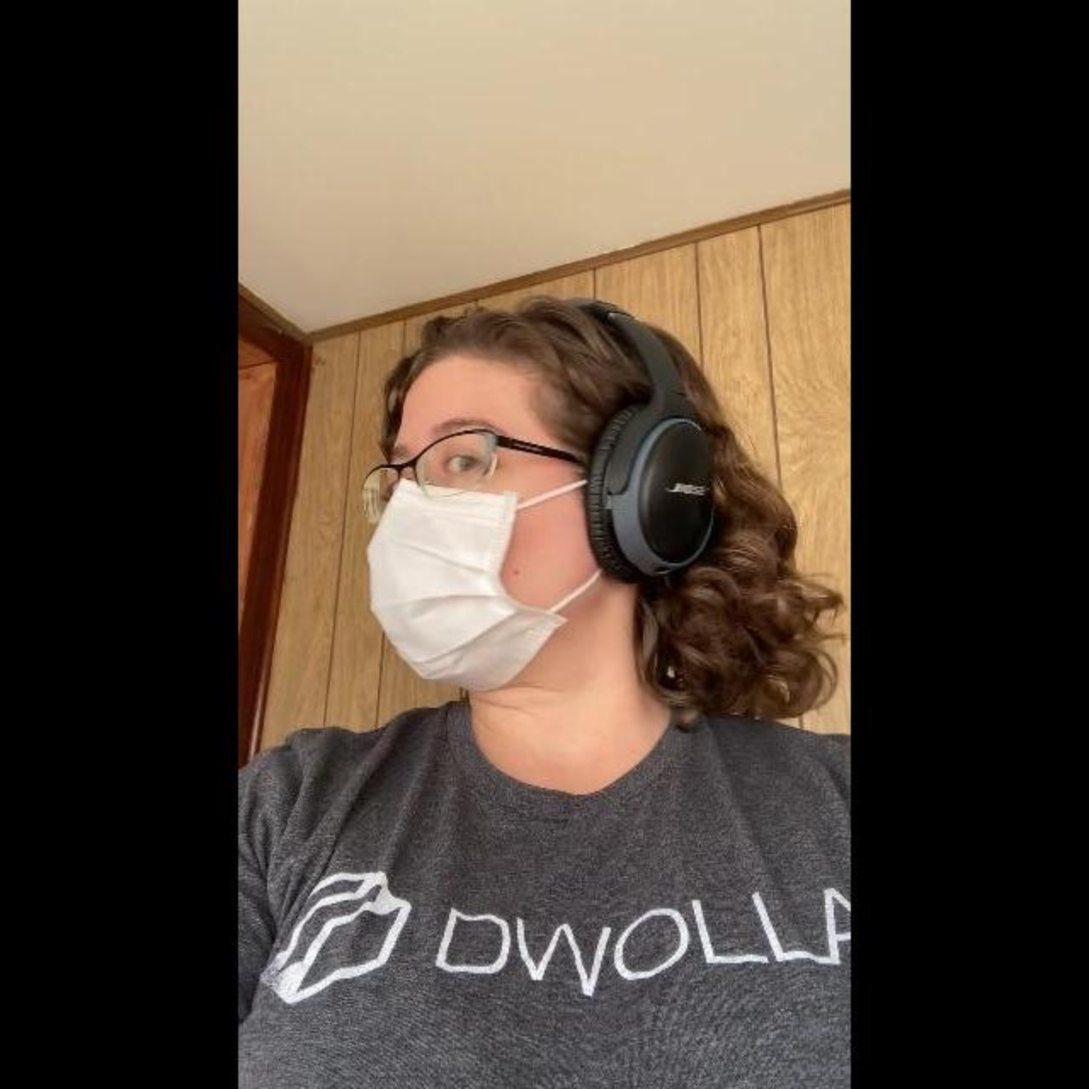no_helmet: (399, 294, 710, 411)
no_vest: (269, 699, 851, 1089)
person: (238, 289, 851, 1089)
